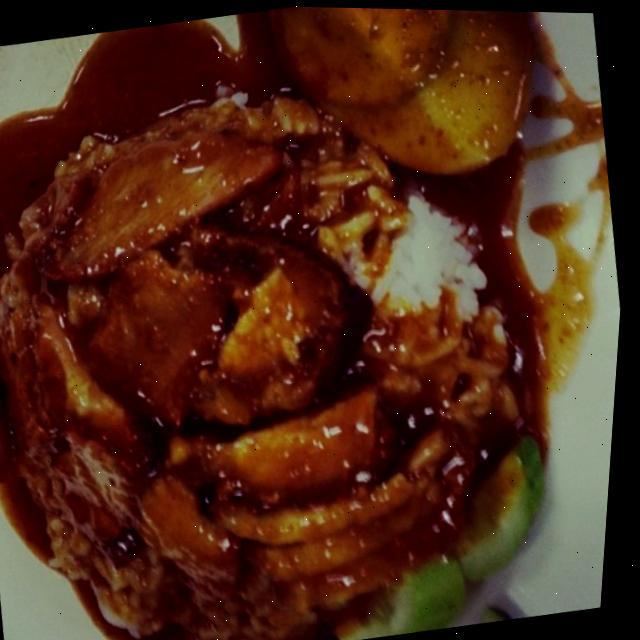猪肉菜式: (0, 14, 591, 640)
